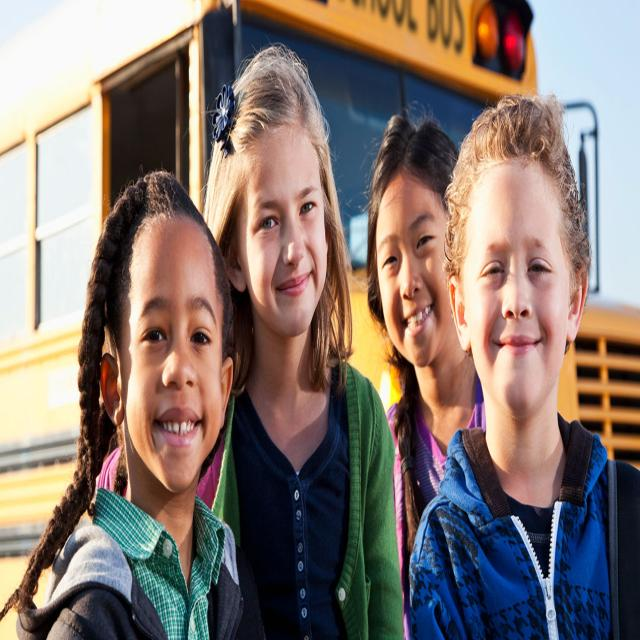child: (408, 103, 640, 640), (198, 43, 403, 640), (7, 165, 238, 640), (365, 110, 494, 590)
